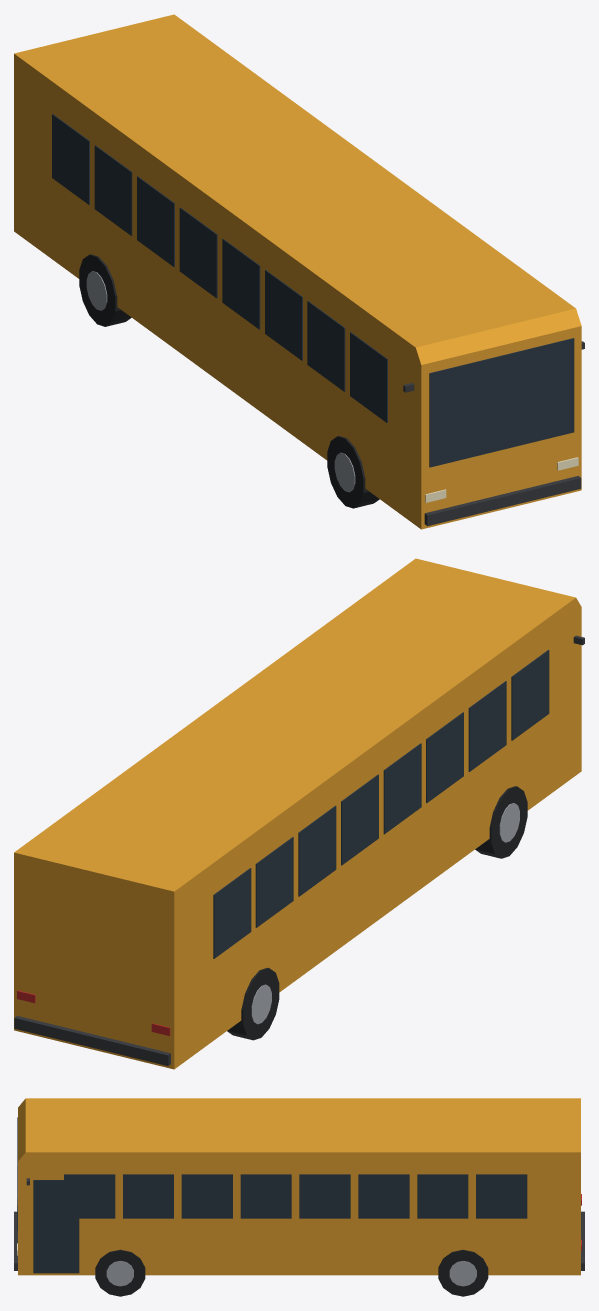
File: bus.glb
The picture shows the model from 3 angles, top to bottom: view 1: azimuth 30°, elevation 25°; view 2: azimuth 150°, elevation 25°; view 3: azimuth 270°, elevation 25°; orthographic projection. The views are drawn at different scales.
Parts seen in each view (by area): view 1: Body, Wheel_RR, Wheel_FR; view 2: Body, Wheel_FR, Wheel_RR; view 3: Body, Wheel_FL, Wheel_RL.
Boxes of the visible parts, x1=… form: Body: x1=14, y1=14, x2=584, y2=529; Wheel_RR: x1=79, y1=254, x2=131, y2=326; Wheel_FR: x1=327, y1=436, x2=379, y2=508; Body: x1=14, y1=558, x2=584, y2=1069; Wheel_FR: x1=475, y1=786, x2=527, y2=858; Wheel_RR: x1=227, y1=967, x2=279, y2=1040; Body: x1=14, y1=1098, x2=584, y2=1275; Wheel_FL: x1=95, y1=1249, x2=145, y2=1296; Wheel_RL: x1=438, y1=1249, x2=488, y2=1296.
Bounding box in the file's own units: 2.8 × 3.1 × 11.16.
